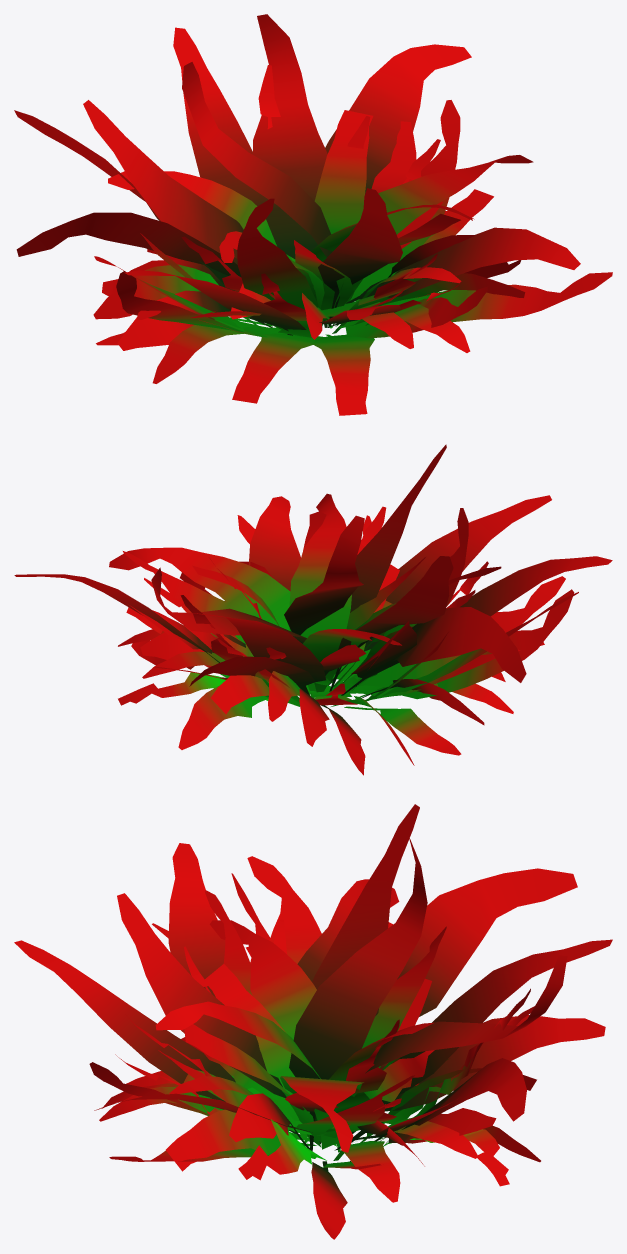
Rendered from Var2_LOD1.fbx.
The picture shows the model from 3 angles, top to bottom: view 1: azimuth 30°, elevation 25°; view 2: azimuth 150°, elevation 25°; view 3: azimuth 270°, elevation 25°; orthographic projection. The views are drawn at different scales.
Parts seen in each view (by area): view 1: _8df9_Var2_LOD1; view 2: _8df9_Var2_LOD1; view 3: _8df9_Var2_LOD1.
Part boxes in pixels (x1=…): _8df9_Var2_LOD1: x1=14, y1=14, x2=612, y2=415; _8df9_Var2_LOD1: x1=14, y1=444, x2=612, y2=775; _8df9_Var2_LOD1: x1=14, y1=804, x2=612, y2=1239.
Bounding box in the file's own units: 15.15 × 7.21 × 14.84.
